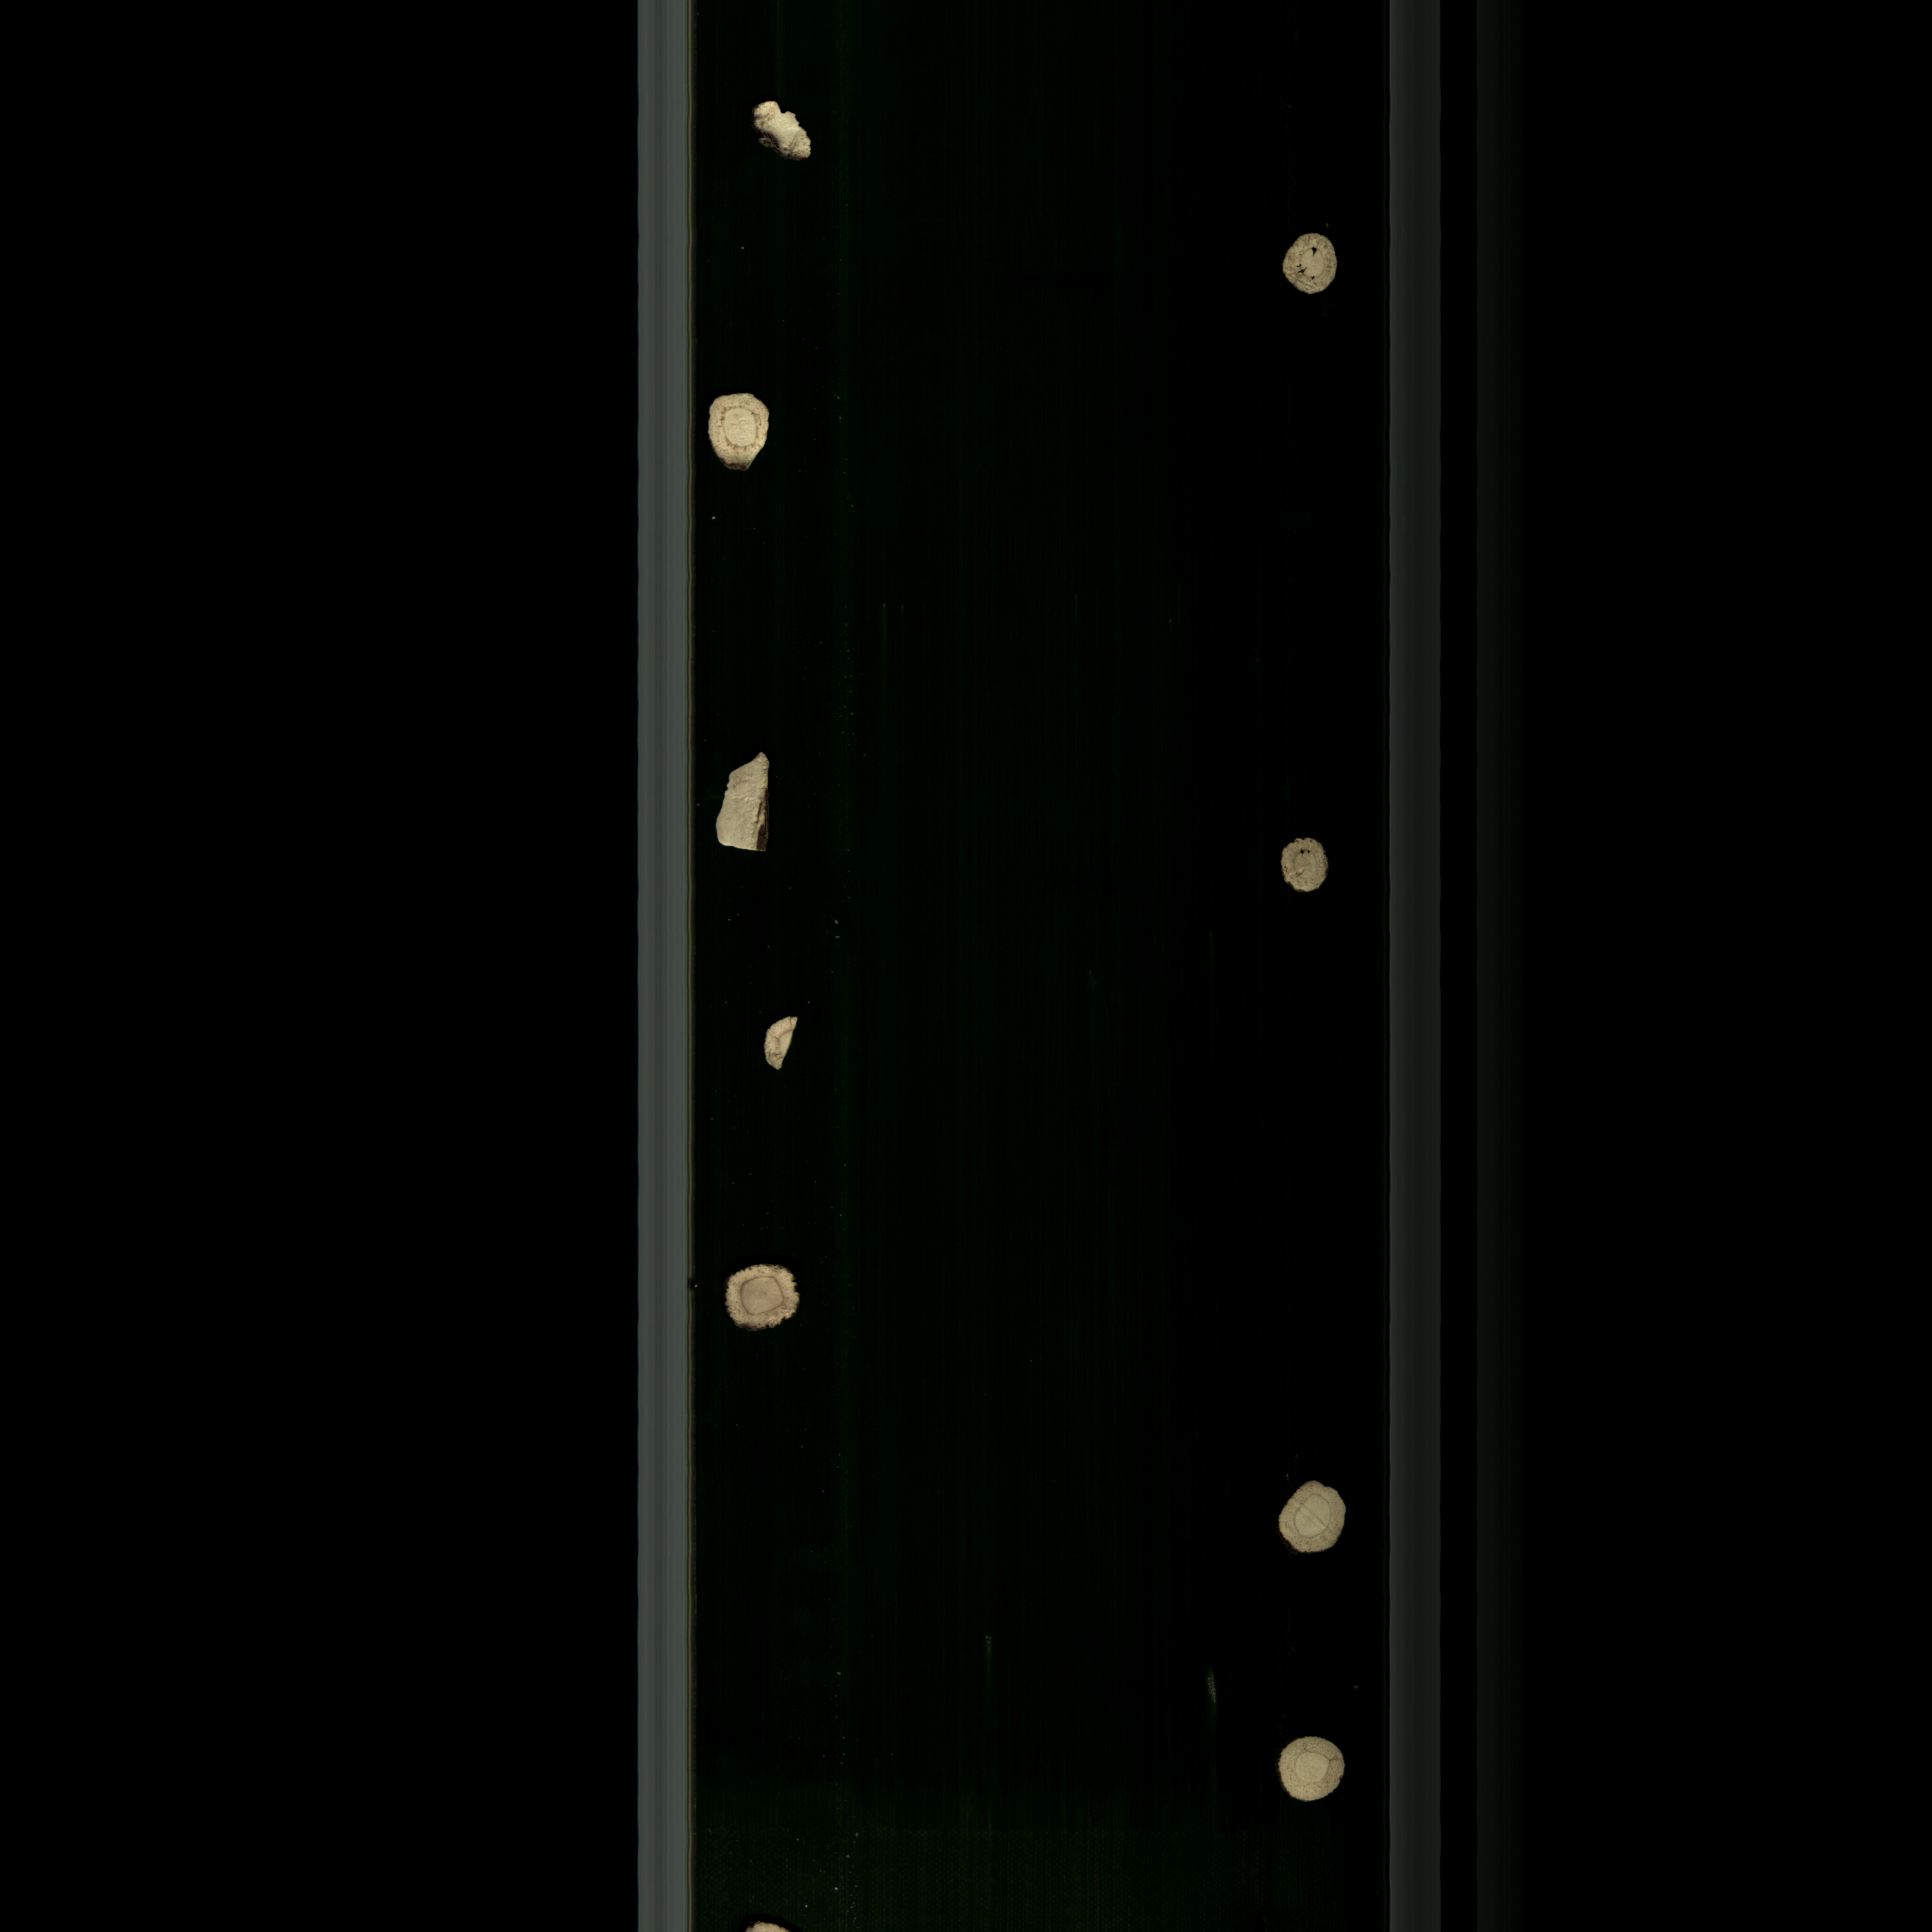distortion: (701, 745, 784, 874)
dreg: (741, 87, 824, 172), (755, 1014, 821, 1083)
hole: (1269, 832, 1332, 893)
moldy: (717, 1267, 814, 1339), (701, 387, 778, 478), (1265, 225, 1345, 304)
